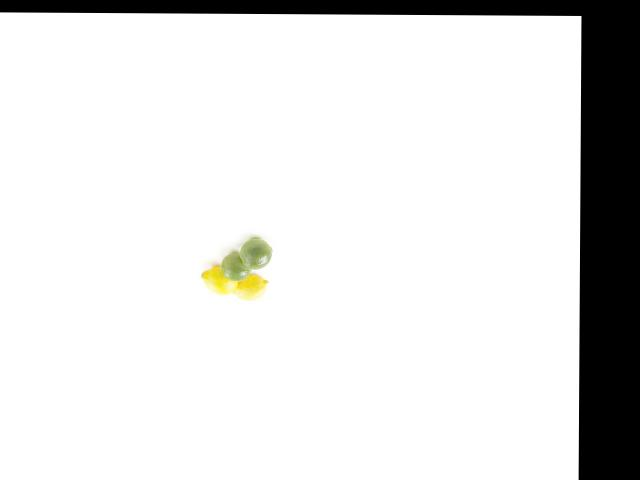lemon: (238, 238, 276, 270)
